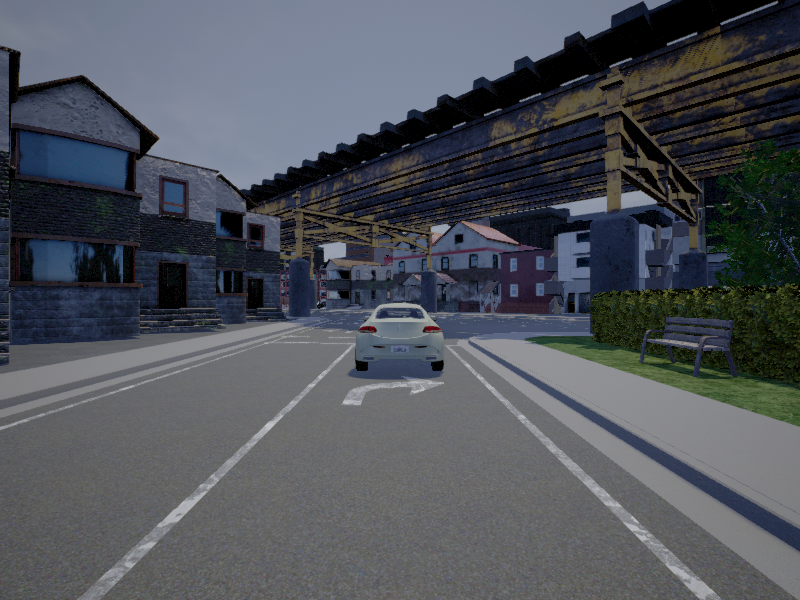Benign: (355, 301, 446, 372)
